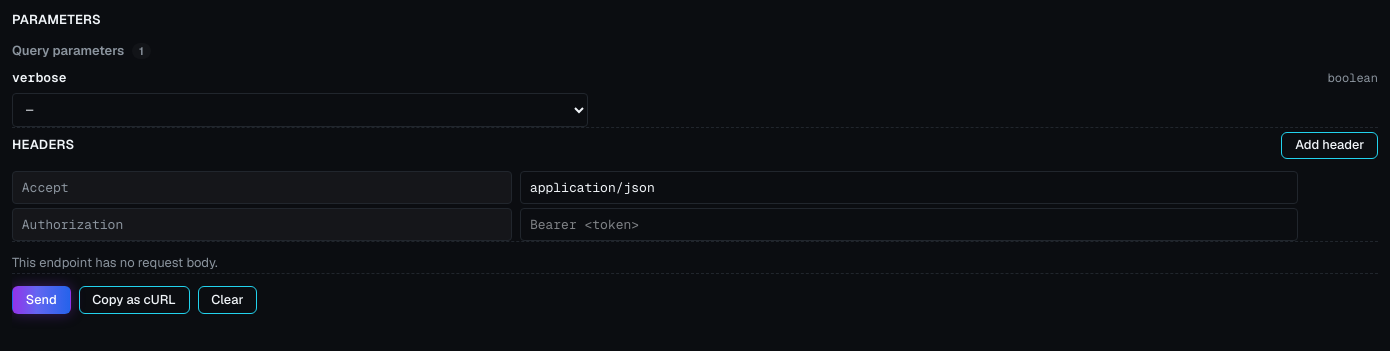
it: TryItOutForm › shows an alert when cURL copy fails
What coordinates should you click on to do the following:
click the button "Copy as cURL"
I would click on:
 (134, 300)
Its box is [78, 286, 190, 314].
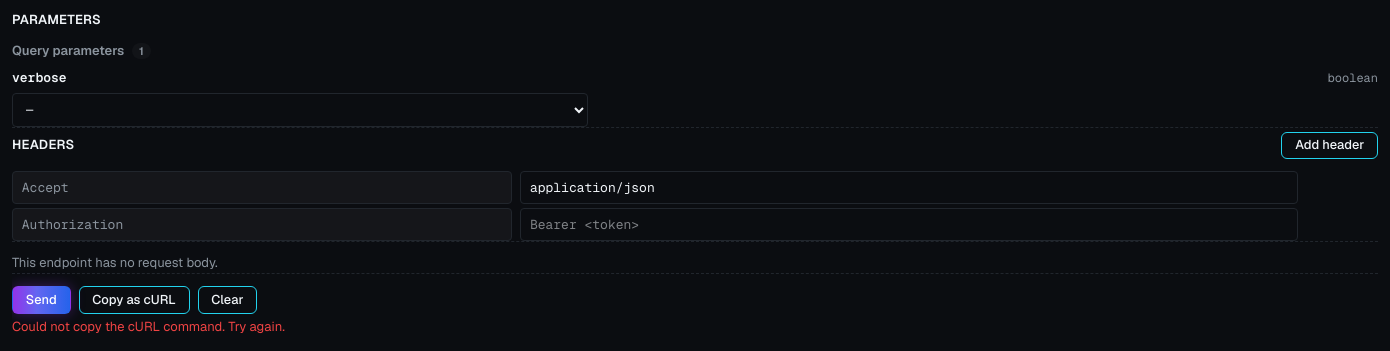
Now the message reads "Could not copy the cURL command. Try again.", box [12, 318, 285, 335]
